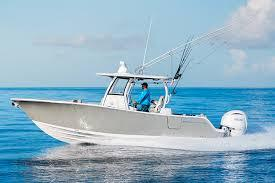fishing boat: (8, 19, 249, 153)
